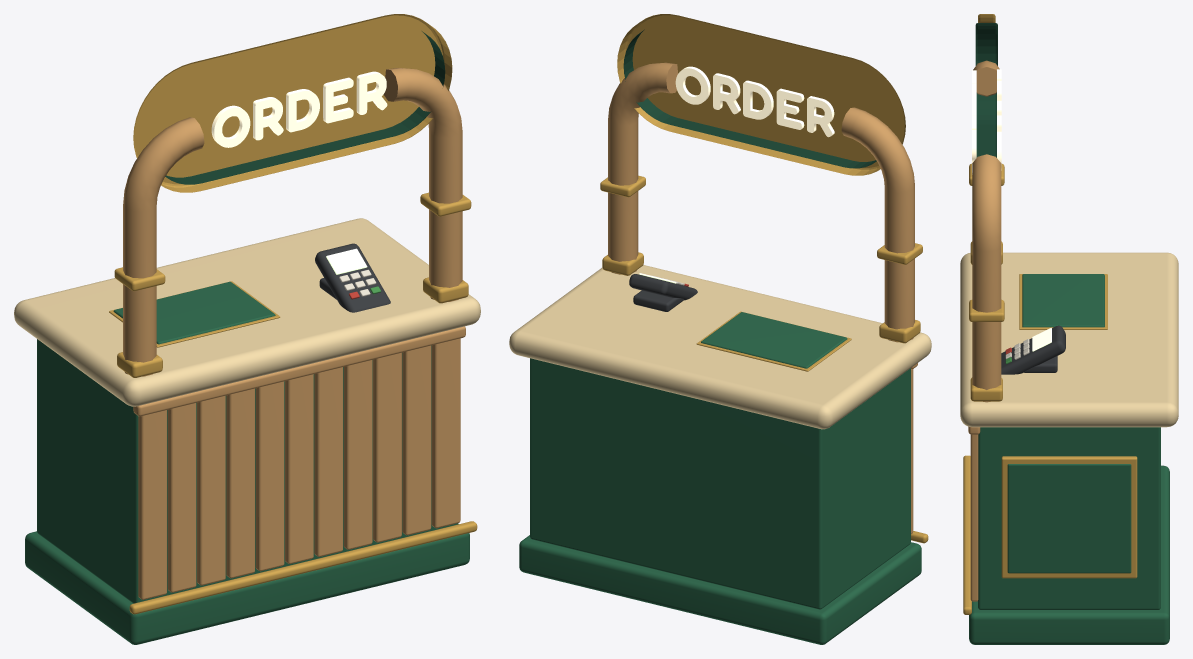
Rendered from order_desk_tier1.glb.
The picture shows the model from 3 angles, left to right: view 1: azimuth 30°, elevation 25°; view 2: azimuth 150°, elevation 25°; view 3: azimuth 270°, elevation 25°; orthographic projection. The views are drawn at different scales.
Visible parts, largest first — view 1: Top, SignBorder, Body, Plinth, ArchPost-1, ArchPost1, Slat4, Slat10, Slat1, Slat7, Slat9, Slat0 (+15 smaller); view 2: Body, Top, SignBorder, Plinth, ArchPost-1, ArchPost1, OrderMat, SignText1, Sign, Reader, MatTrim, Cradle; view 3: Top, Body, EndInset, Plinth, ArchPost1, OrderMat, EndFrame, Sign, Slat10, Reader, PlinthRail, ArchPost-1 (+6 smaller).
Boxes of the visible parts, bbox=[...] form: Top: bbox=[14, 218, 480, 406]; SignBorder: bbox=[133, 14, 452, 192]; Body: bbox=[37, 339, 457, 603]; Plinth: bbox=[25, 523, 469, 644]; ArchPost-1: bbox=[123, 117, 204, 376]; ArchPost1: bbox=[383, 68, 462, 301]; Slat4: bbox=[255, 381, 284, 571]; Slat10: bbox=[431, 338, 460, 528]; Slat1: bbox=[167, 403, 196, 592]; Slat7: bbox=[343, 360, 372, 549]; Slat9: bbox=[402, 345, 431, 535]; Slat0: bbox=[138, 410, 166, 599]; Body: bbox=[530, 358, 910, 609]; Top: bbox=[509, 265, 931, 429]; SignBorder: bbox=[617, 14, 905, 175]; Plinth: bbox=[519, 535, 921, 644]; ArchPost-1: bbox=[841, 107, 914, 342]; ArchPost1: bbox=[608, 62, 677, 274]; OrderMat: bbox=[701, 312, 847, 368]; SignText1: bbox=[675, 66, 834, 137]; Sign: bbox=[623, 29, 876, 168]; Reader: bbox=[629, 274, 697, 300]; MatTrim: bbox=[696, 311, 851, 371]; Cradle: bbox=[633, 290, 683, 311]; Top: bbox=[960, 252, 1178, 427]; Body: bbox=[978, 427, 1160, 609]; EndInset: bbox=[1007, 464, 1131, 573]; Plinth: bbox=[969, 465, 1169, 644]; ArchPost1: bbox=[972, 154, 1001, 402]; OrderMat: bbox=[1022, 274, 1104, 327]; EndFrame: bbox=[1001, 456, 1137, 578]; Sign: bbox=[975, 23, 997, 157]; Slat10: bbox=[970, 434, 978, 601]; Reader: bbox=[1001, 325, 1065, 374]; PlinthRail: bbox=[963, 455, 971, 614]; ArchPost-1: bbox=[973, 60, 999, 96].
Bounding box in the file's own units: 1.27 × 1.9 × 0.74.
